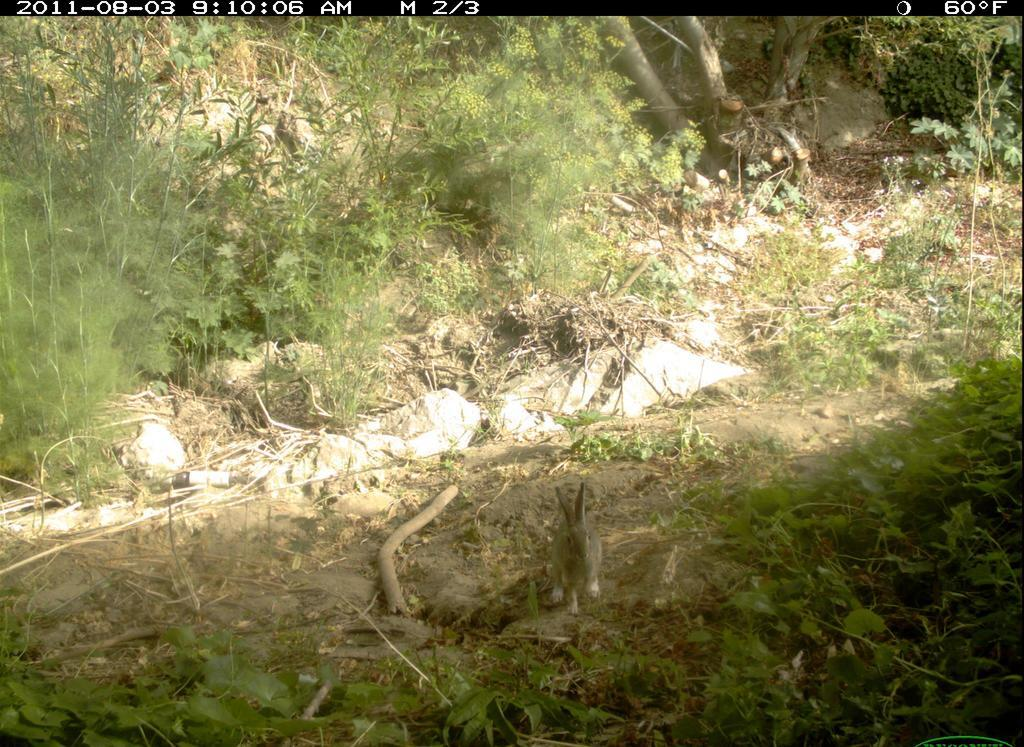rabbit: (536, 481, 614, 617)
